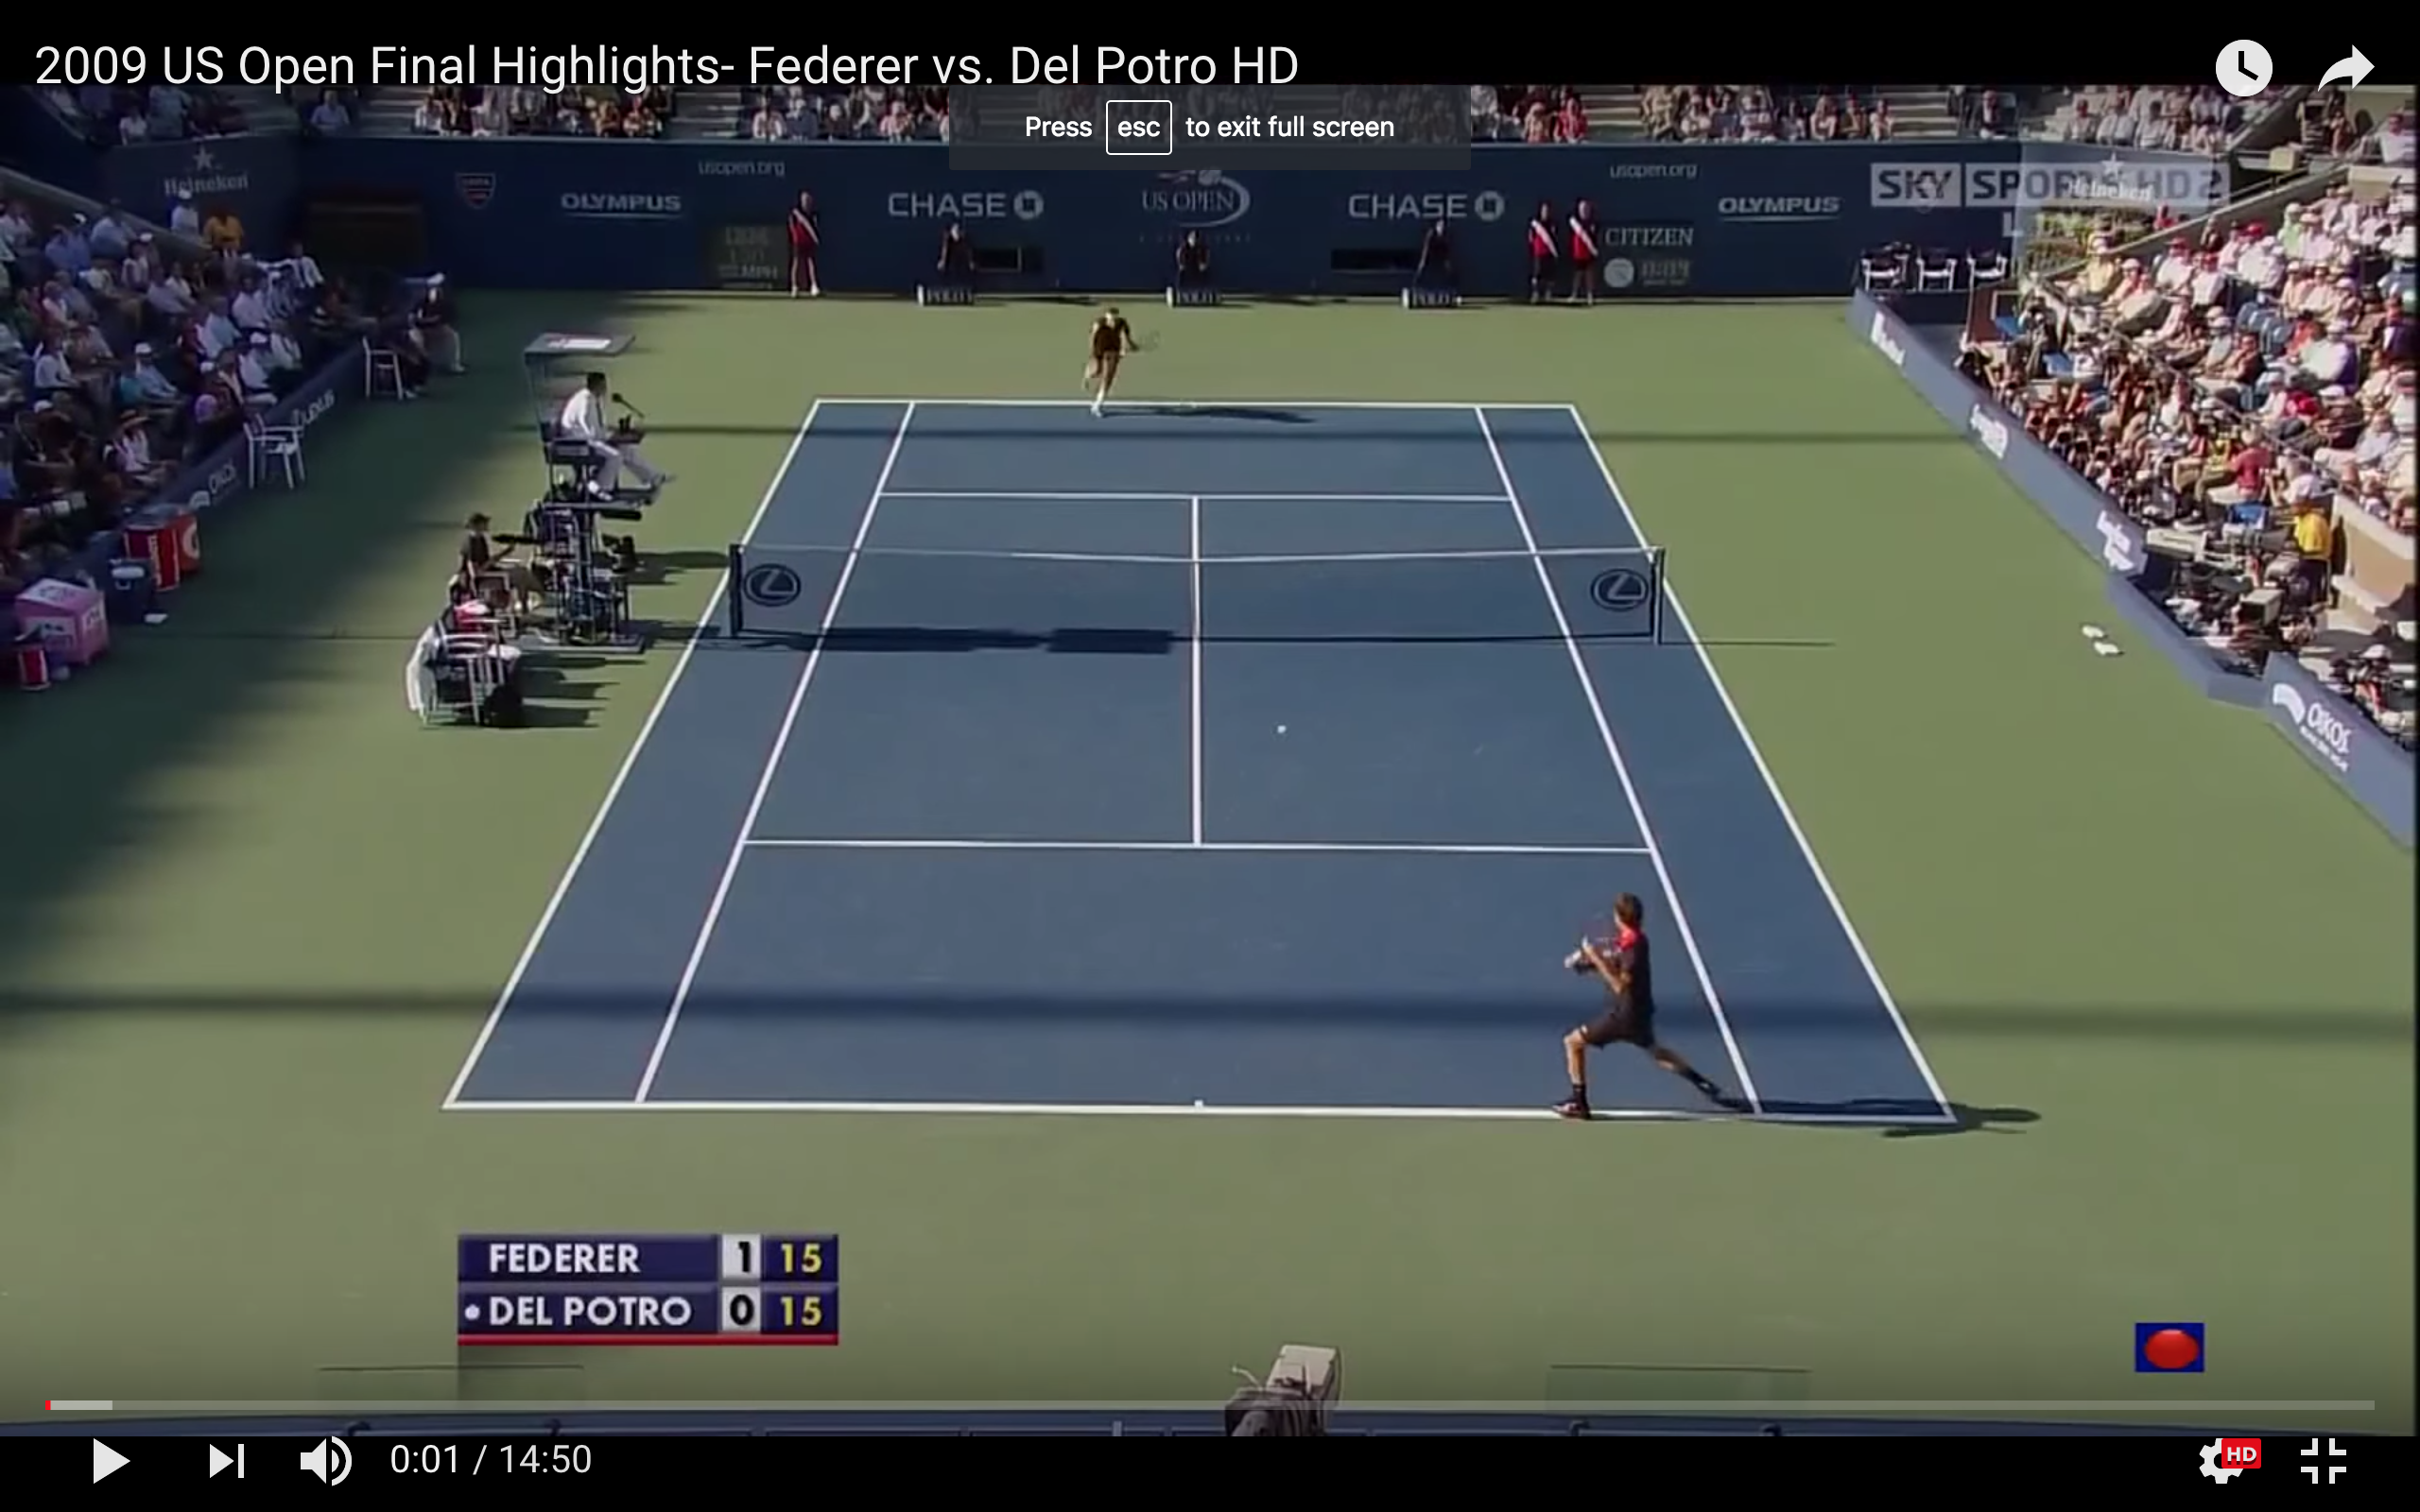tennis ball: (1272, 721, 1292, 740)
tennis player: (1544, 888, 1748, 1131), (1072, 306, 1146, 421)
